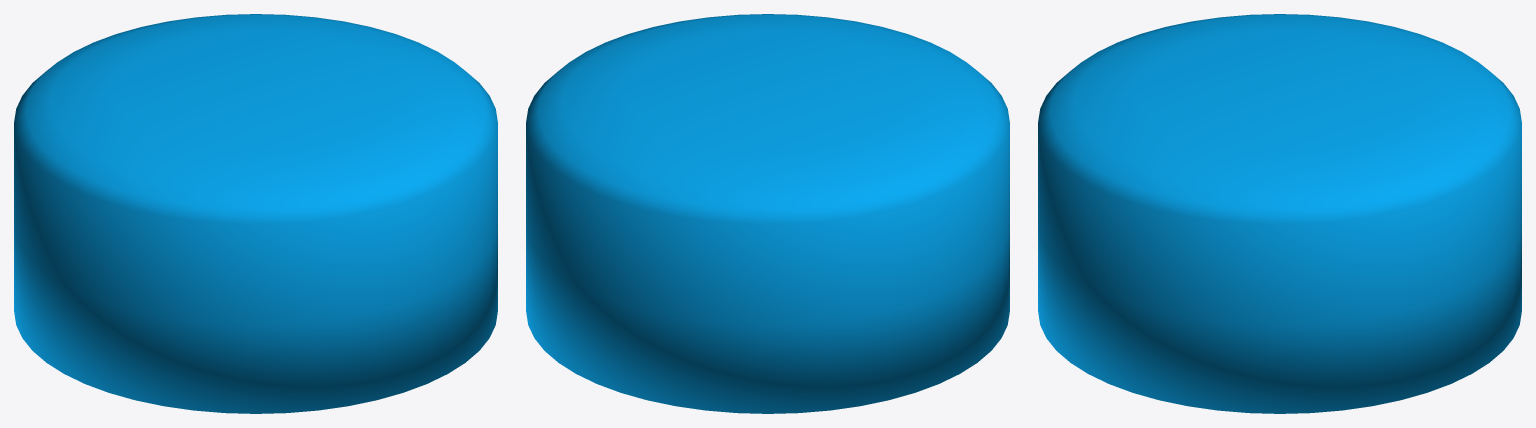
The model's file is BlueButton-Button.fbx.
3 views of the same model, side by side, from view 1: azimuth 30°, elevation 25°; view 2: azimuth 150°, elevation 25°; view 3: azimuth 270°, elevation 25° (orthographic).
Visible parts, largest first — view 1: Button; view 2: Button; view 3: Button.
Boxes of the visible parts, <box> form: Button: <box>14,14,497,413</box>; Button: <box>526,14,1009,413</box>; Button: <box>1038,14,1521,413</box>.
Size of the model in its own units: 200 by 101 by 200.
